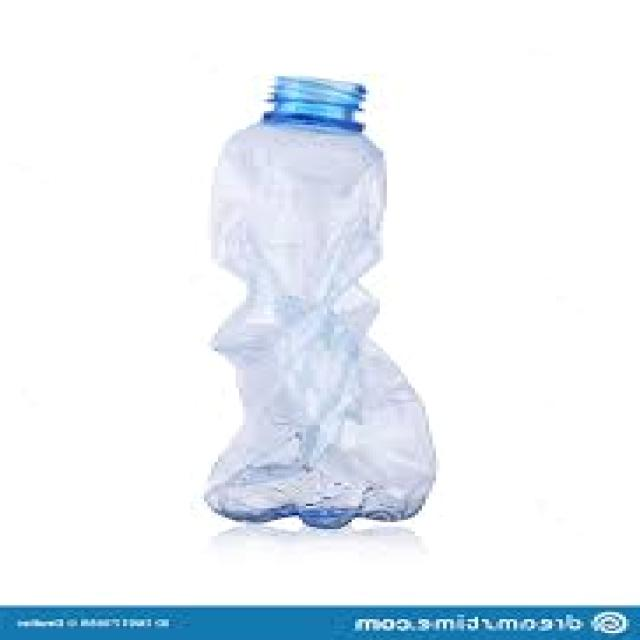bottle: (170, 58, 462, 531)
